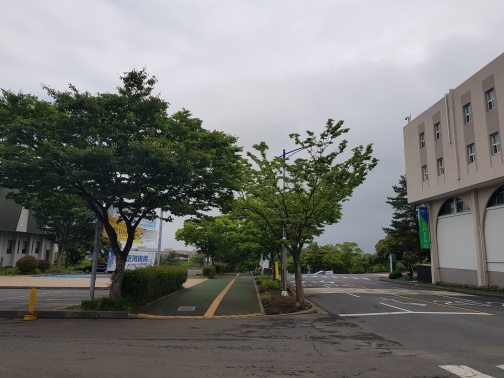Gym: (3, 185, 59, 272)
Main Building of University: (398, 46, 504, 286), (459, 71, 504, 167), (415, 104, 449, 191), (436, 186, 504, 223), (418, 204, 432, 255)
